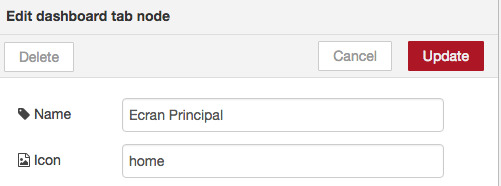_form_: (1, 1, 455, 186), (34, 1, 450, 186)
button: (406, 39, 485, 72), (317, 41, 395, 72), (3, 41, 75, 72)
field: (119, 142, 448, 179), (121, 97, 447, 132)
field_with_label: (32, 140, 448, 181), (33, 95, 451, 134)
